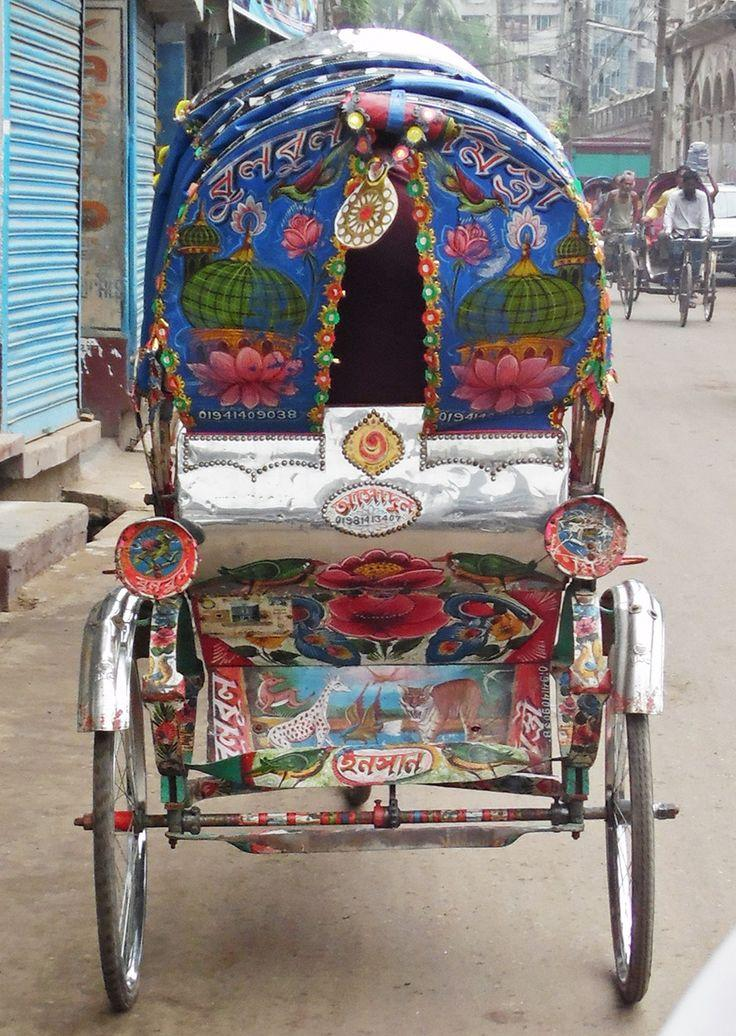Rickshaw: (77, 30, 674, 1009), (640, 171, 715, 325), (604, 231, 639, 319)
